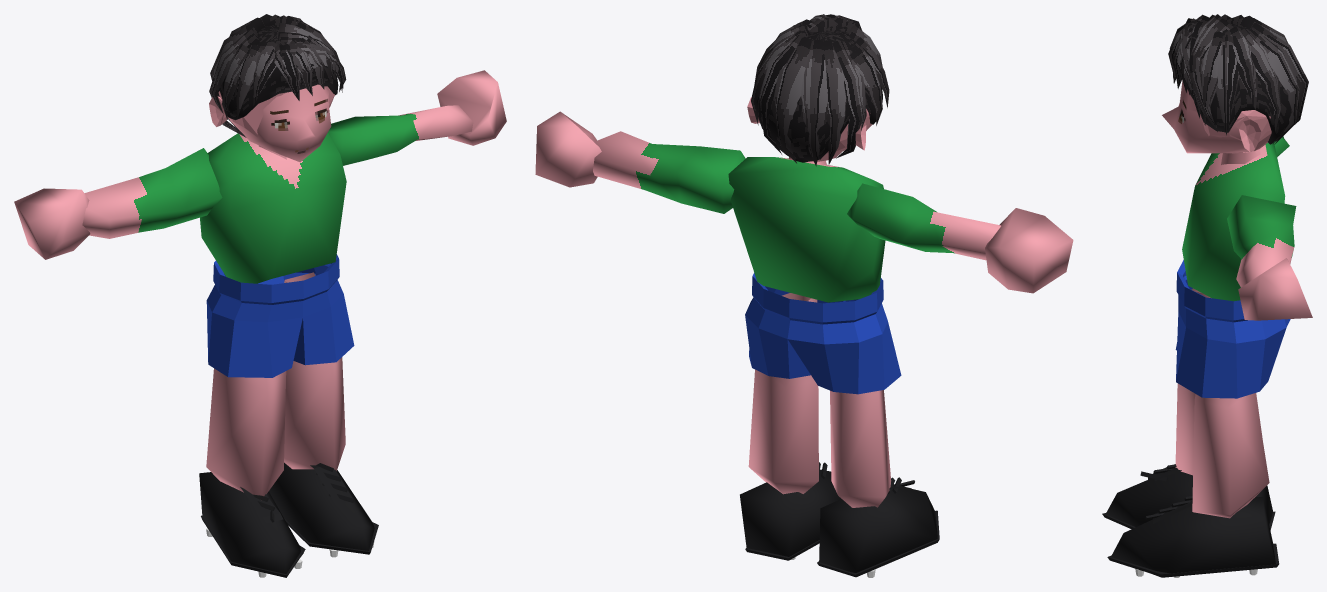
The model's file is 01-liso-repartido_preto.glb.
The picture shows the model from 3 angles, left to right: view 1: azimuth 30°, elevation 25°; view 2: azimuth 150°, elevation 25°; view 3: azimuth 270°, elevation 25°; orthographic projection. The views are drawn at different scales.
Visible parts, largest first — view 1: Camisa_Tronco, Bermuda, Cabelo, Perna.R, Braco.R, Perna.L, Chuteira.R, Chuteira.L, Braco.L, Cabeca, Mao.R, Mao.L (+3 smaller); view 2: Camisa_Tronco, Cabelo, Bermuda, Perna.L, Braco.L, Chuteira.R, Perna.R, Braco.R, Mao.R, Chuteira.L, Mao.L, Chuteira_Sola.R; view 3: Cabelo, Bermuda, Chuteira.L, Camisa_Tronco, Perna.L, Braco.L, Mao.L, Chuteira.R, Cabeca, Perna.R, Chuteira_Sola.L, Cranio (+4 smaller).
Part boxes in pixels (left/top/right/bottom): Camisa_Tronco: left=200, top=133, right=346, bottom=283; Bermuda: left=206, top=254, right=354, bottom=377; Cabelo: left=209, top=14, right=346, bottom=137; Perna.R: left=206, top=368, right=286, bottom=500; Braco.R: left=82, top=148, right=222, bottom=238; Perna.L: left=284, top=272, right=345, bottom=471; Chuteira.R: left=199, top=472, right=303, bottom=573; Chuteira.L: left=269, top=462, right=374, bottom=550; Braco.L: left=328, top=105, right=473, bottom=165; Cabeca: left=231, top=84, right=331, bottom=162; Mao.R: left=14, top=188, right=90, bottom=259; Mao.L: left=437, top=70, right=506, bottom=145; Camisa_Tronco: left=728, top=157, right=885, bottom=302; Cabelo: left=751, top=14, right=889, bottom=166; Bermuda: left=745, top=273, right=901, bottom=394; Perna.L: left=748, top=293, right=818, bottom=494; Braco.L: left=593, top=131, right=745, bottom=213; Chuteira.R: left=819, top=484, right=937, bottom=572; Perna.R: left=830, top=390, right=891, bottom=507; Braco.R: left=847, top=183, right=1000, bottom=260; Mao.R: left=985, top=208, right=1073, bottom=293; Chuteira.L: left=740, top=469, right=841, bottom=556; Mao.L: left=535, top=111, right=601, bottom=187; Chuteira_Sola.R: left=817, top=510, right=939, bottom=577; Cabelo: left=1168, top=14, right=1308, bottom=144; Bermuda: left=1175, top=260, right=1290, bottom=398; Chuteira.L: left=1111, top=497, right=1276, bottom=577; Camisa_Tronco: left=1182, top=142, right=1285, bottom=301; Perna.L: left=1192, top=393, right=1269, bottom=518; Braco.L: left=1227, top=195, right=1296, bottom=287; Mao.L: left=1238, top=258, right=1312, bottom=320; Chuteira.R: left=1106, top=467, right=1272, bottom=526; Cabeca: left=1162, top=80, right=1254, bottom=153; Perna.R: left=1175, top=288, right=1262, bottom=475; Chuteira_Sola.L: left=1107, top=543, right=1279, bottom=577; Cranio: left=1202, top=110, right=1271, bottom=153.
Bounding box in the file's own units: 0.4523 × 0.4524 × 0.1617.
Materials: 3 (3 with a texture image).
